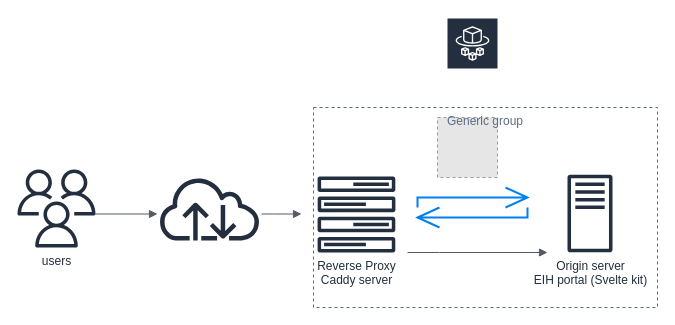
Some shapes in this 675 by 325 pixel diagram are drawn without their labels. Grey dashed boxes stand in for pictures. The centre of each missing label's shape, as x and y in pixels:
"AWS Fargate" belongs at point 472,62.
"Internet" belongs at point 209,208.
